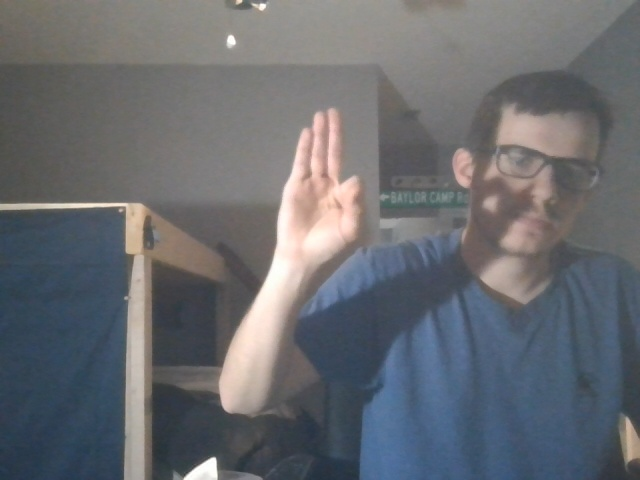F: (265, 105, 374, 278)
